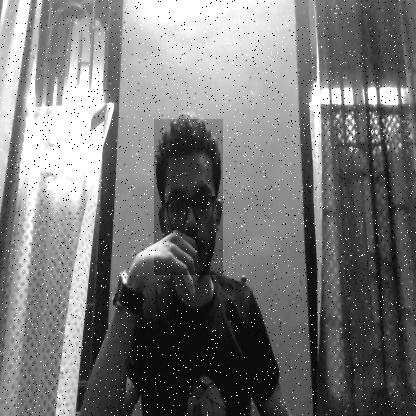Normal: (154, 119, 223, 275)
